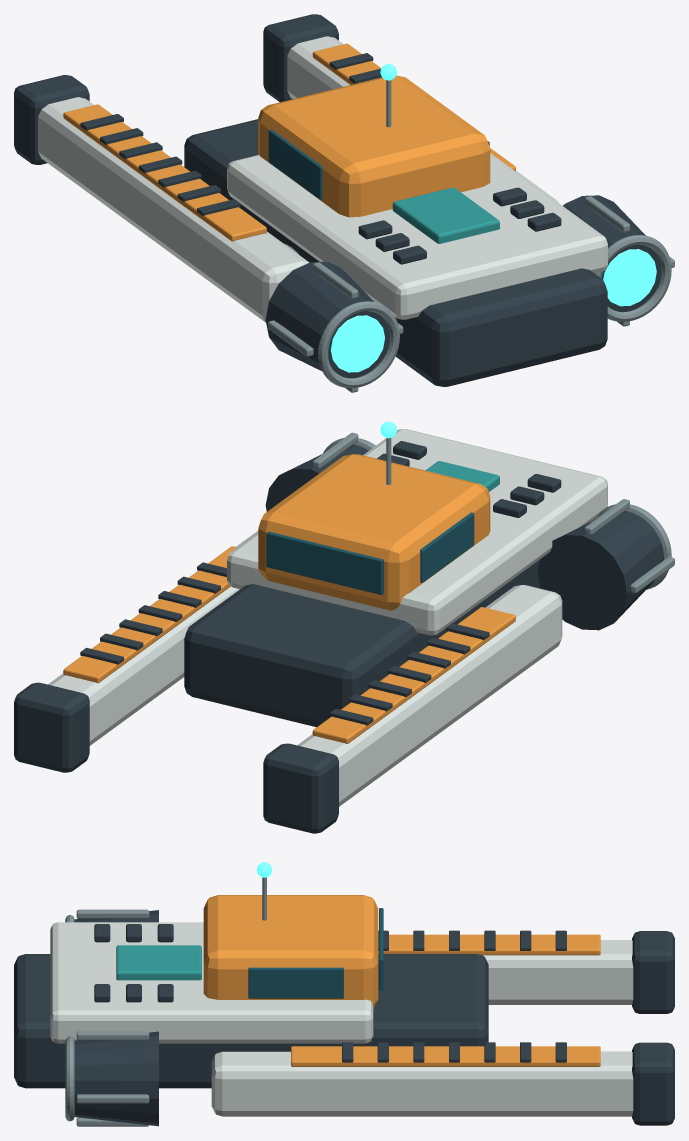
Rendered from karramarro_tug.glb.
The picture shows the model from 3 angles, top to bottom: view 1: azimuth 30°, elevation 25°; view 2: azimuth 150°, elevation 25°; view 3: azimuth 270°, elevation 25°; orthographic projection. The views are drawn at different scales.
Visible parts, largest first — view 1: karramarro_tug_mesh; view 2: karramarro_tug_mesh; view 3: karramarro_tug_mesh.
Boxes of the visible parts, x1=… form: karramarro_tug_mesh: x1=14, y1=14, x2=674, y2=392; karramarro_tug_mesh: x1=14, y1=421, x2=674, y2=833; karramarro_tug_mesh: x1=14, y1=862, x2=674, y2=1126.
Size of the model in its own units: 5.92 by 3.38 by 10.03.
